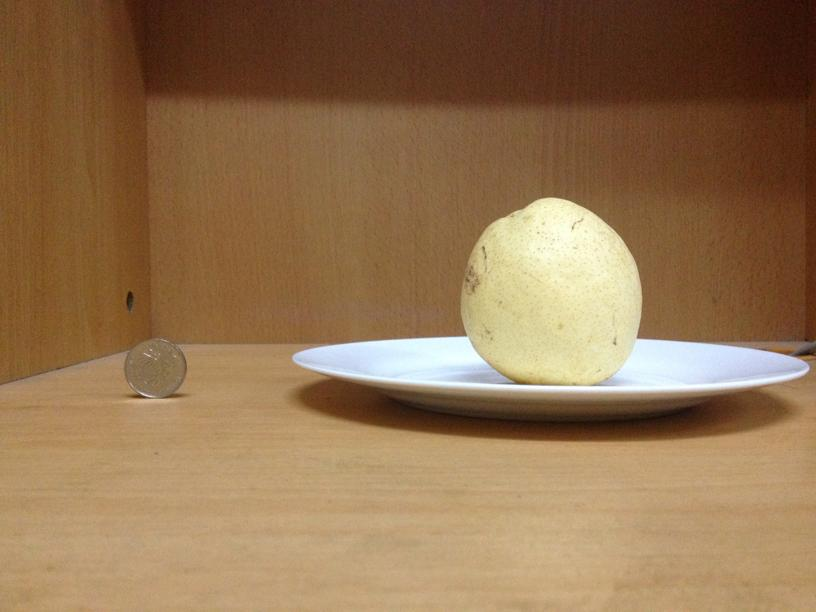coin: (123, 338, 188, 397)
pear: (458, 195, 647, 382)
